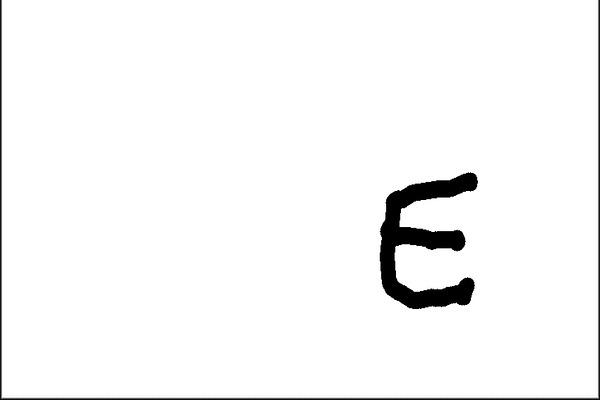E: (372, 166, 482, 311)
